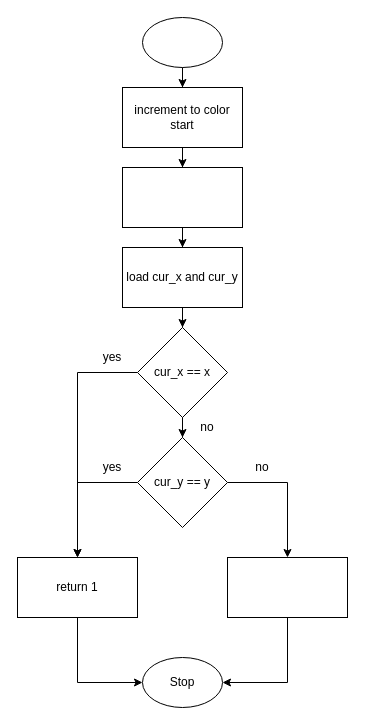
This 365x725 diagram has some shape labels left out. Here are the shapes that lost their labels. From the top down, the centre of each, then its label:
At point 182,42: "Start".
At point 182,197: "byte_to_coord".
At point 287,587: "return 0".
